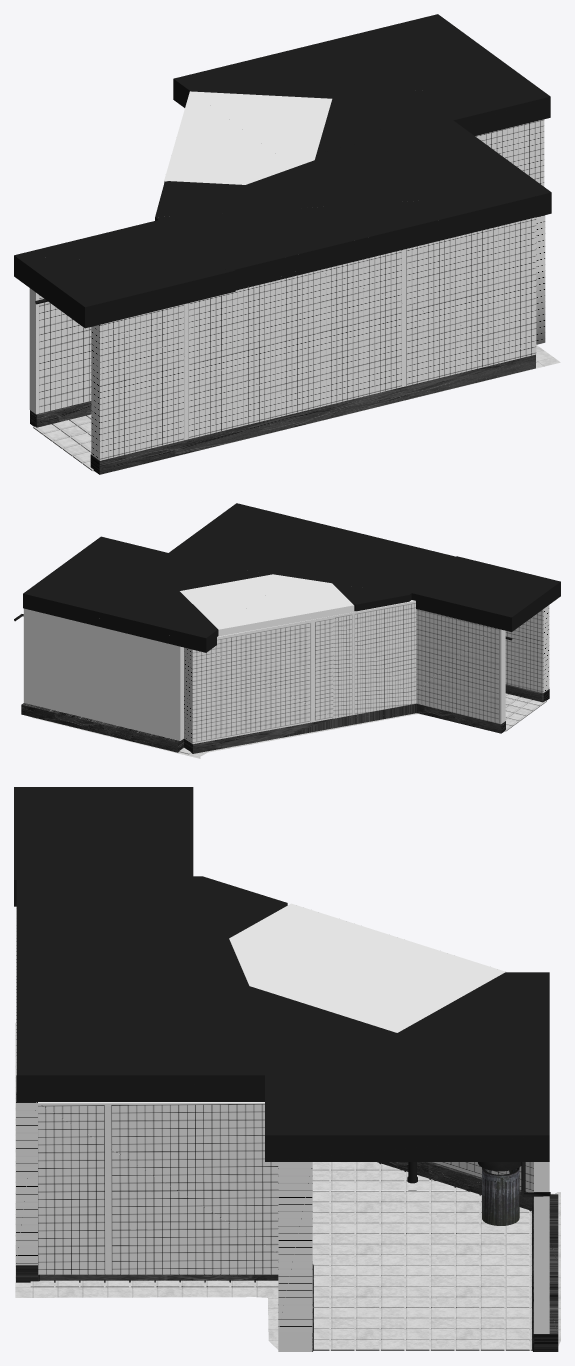
File: subway-station.glb
3 renders of one model, top to bottom at view 1: azimuth 30°, elevation 25°; view 2: azimuth 150°, elevation 25°; view 3: azimuth 270°, elevation 25°, orthographic. The views are drawn at different scales.
Visible parts, largest first — view 1: rest -1 1, rest 0 1, rest -3 1, rest -2 1, ceiling 0 0, ceiling 1 -2, ceiling -1 -1, ceiling -1 1, ceiling 0 -1, rest -3 0, ceiling -3 1, ceiling -3 0 (+7 smaller); view 2: rest -3 0, rest 0 -3, rest -1 -2, ceiling 0 0, rest -1 -1, ceiling 1 -2, ceiling -1 -1, rest 1 -3, ceiling -1 1, rest -2 -1, rest -2 0, rest 2 -3 (+10 smaller); view 3: rest 1 0, ceiling 0 0, ceiling 1 -2, ceiling -1 -1, ceiling -1 1, ceiling 0 -1, rest 2 -1, ceiling -3 1, ceiling -3 0, rest 1 1, rest 2 -2, floor 1 -2 (+15 smaller).
Boxes of the visible parts, x1,y1,x2,y2 form: rest -1 1: [106, 193, 547, 459]; rest 0 1: [236, 192, 551, 354]; rest -3 1: [85, 270, 317, 460]; rest -2 1: [91, 218, 532, 474]; ceiling 0 0: [156, 114, 550, 217]; ceiling 1 -2: [174, 14, 550, 96]; ceiling -1 -1: [164, 91, 332, 184]; ceiling -1 1: [155, 192, 551, 270]; ceiling 0 -1: [174, 78, 549, 153]; rest -3 0: [36, 293, 91, 434]; ceiling -3 1: [14, 255, 314, 307]; ceiling -3 0: [15, 218, 235, 301]; rest -3 0: [411, 593, 511, 733]; rest 0 -3: [24, 608, 206, 754]; rest -1 -2: [184, 605, 352, 753]; ceiling 0 0: [162, 503, 408, 594]; rest -1 -1: [195, 604, 355, 743]; ceiling 1 -2: [23, 537, 205, 637]; ceiling -1 -1: [180, 574, 353, 629]; rest 1 -3: [23, 593, 203, 733]; ceiling -1 1: [237, 503, 455, 594]; rest -2 -1: [279, 605, 416, 738]; rest -2 0: [333, 594, 416, 718]; rest 2 -3: [14, 608, 101, 732]; rest 1 0: [18, 1077, 278, 1287]; ceiling 0 0: [17, 876, 287, 1075]; ceiling 1 -2: [265, 972, 549, 1194]; ceiling -1 -1: [229, 903, 505, 1032]; ceiling -1 1: [16, 876, 201, 1091]; ceiling 0 -1: [265, 972, 548, 1134]; rest 2 -1: [265, 1135, 547, 1351]; ceiling -3 1: [14, 787, 192, 957]; ceiling -3 0: [14, 787, 193, 879]; rest 1 1: [16, 1075, 264, 1287]; rest 2 -2: [267, 1135, 558, 1351]; floor 1 -2: [404, 1265, 531, 1329].
Size of the model in its own units: 17.92 by 5.26 by 11.63.
16 materials, 10 textured.
